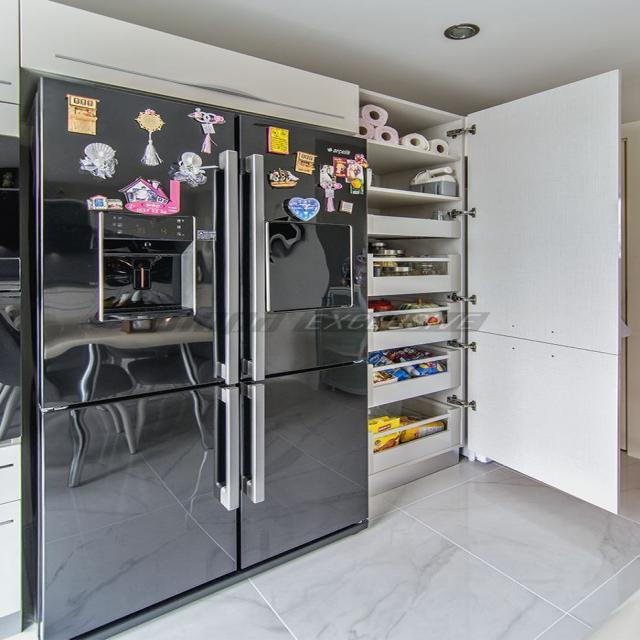obstacle: (18, 72, 371, 638), (359, 87, 468, 519)
